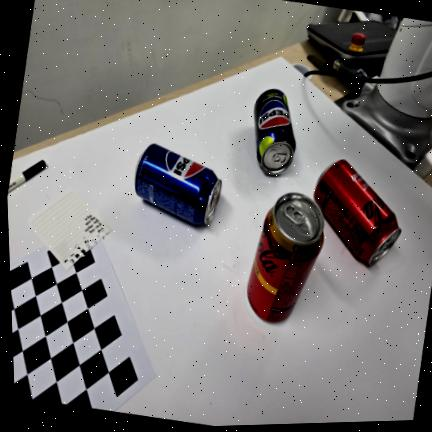can_coke_decaf: (247, 193, 324, 322)
can_coke_zero: (314, 160, 401, 265)
can_pepsi: (135, 144, 222, 225)
can_pepsi_zero: (254, 89, 296, 175)
